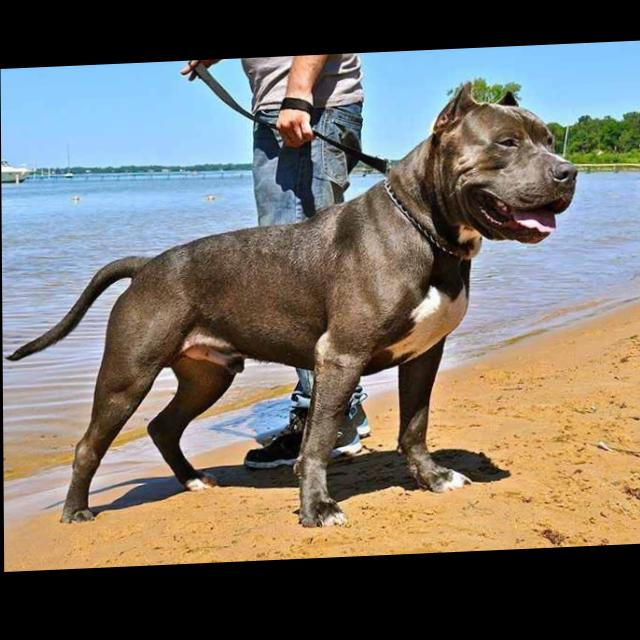am_pit_bull_terrier: (2, 81, 580, 544)
person: (180, 57, 371, 478)
